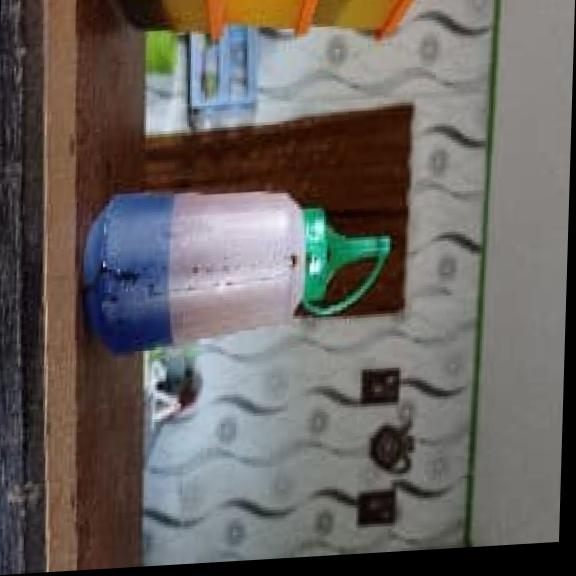Plastik: (83, 192, 391, 354)
